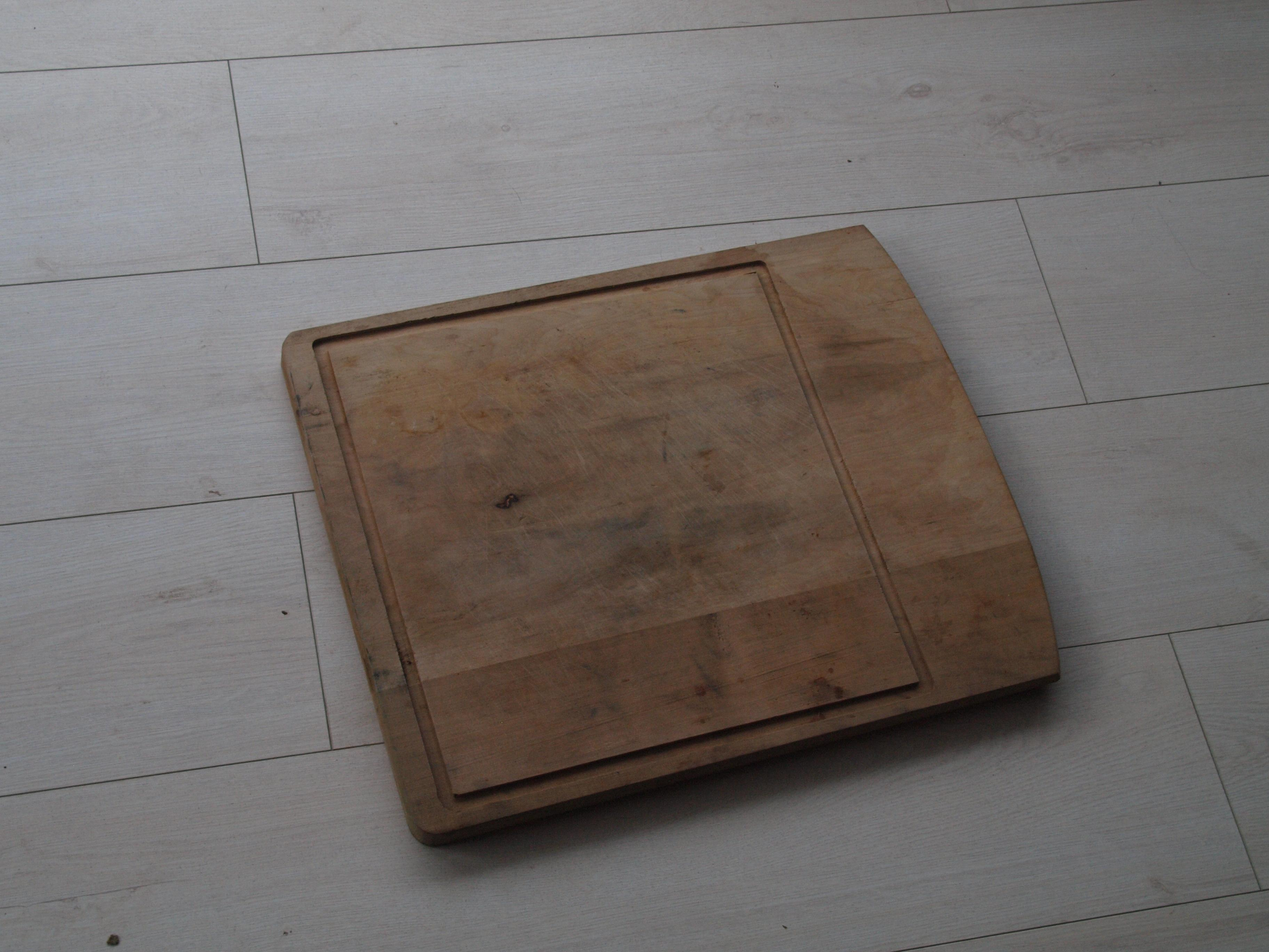gloved_hand: (268, 214, 1079, 862)
